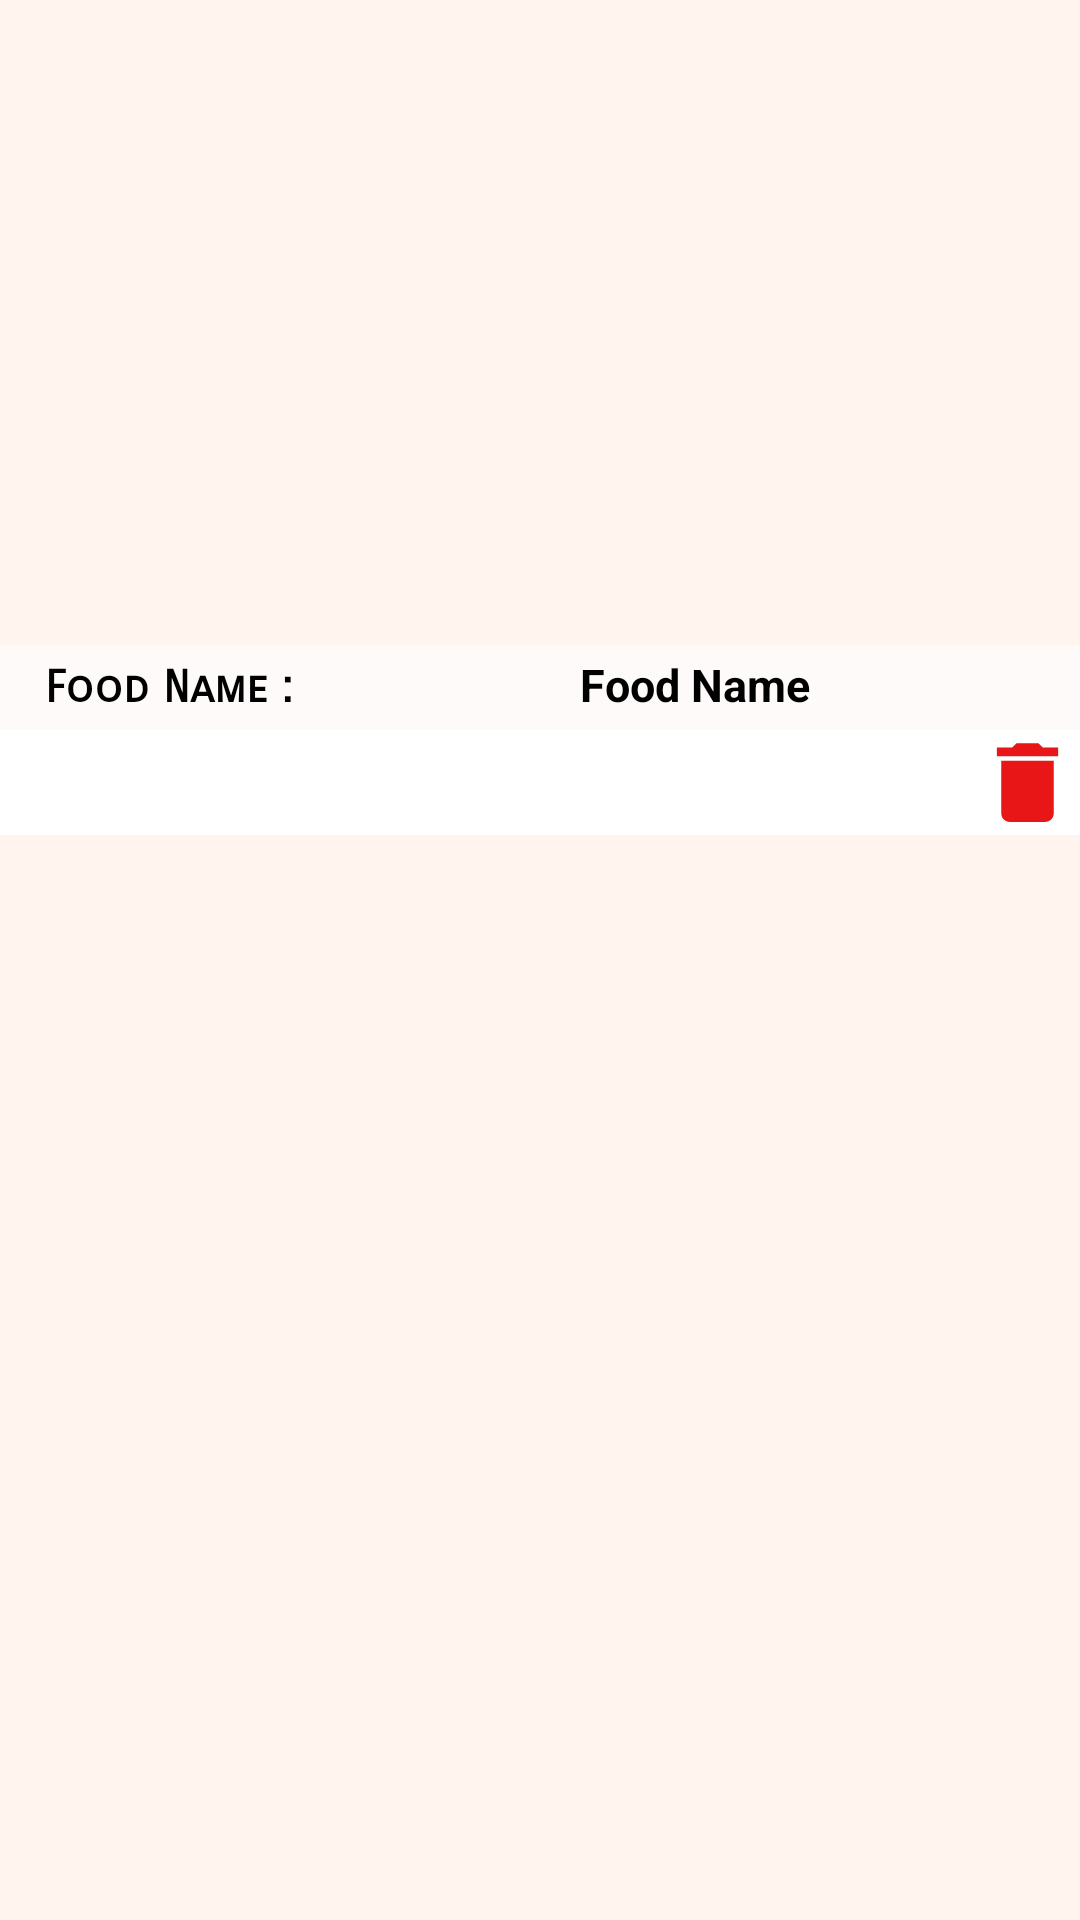

Screen size 1080 x 1920. Icon name, then its center in pixels as (x=x, y=y):
delete: (x=1027, y=782)
